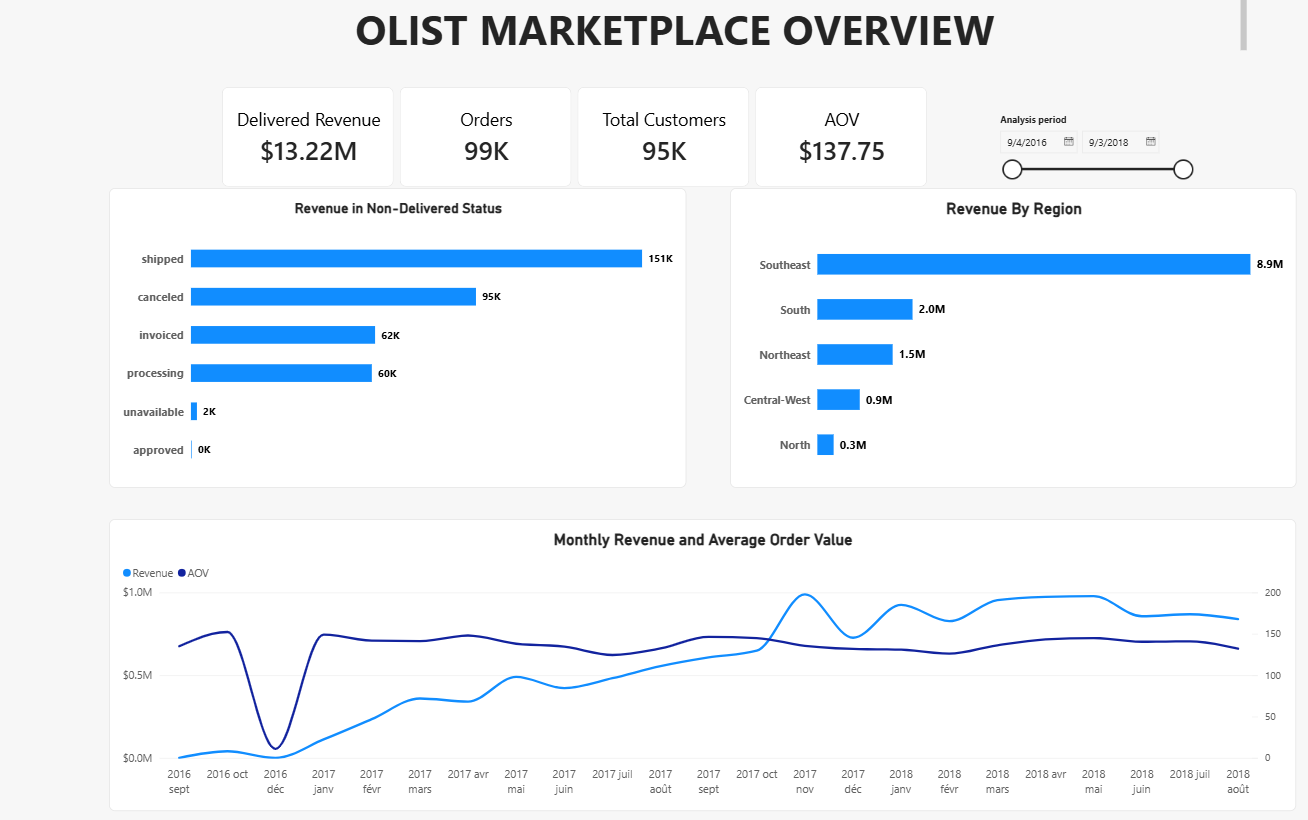

The page's visual inventory and layout, read from the dashboard file:
{"tool":"powerbi","page":{"name":"Overview","canvas":[1920,1080],"ordinal":0},"visuals":[{"type":"clusteredBarChart","title":"Revenue in Non-Delivered Status","fields":{"Category":["fct_orders.order_status"],"Y":["fct_orders.Executive - Total Revenue"]},"box":[333.3,243.3,746.7,388.3],"z":0},{"type":"cardVisual","fields":{"Data":["fct_orders.Executive -Delivered Revenue","fct_orders.Executive- Total Orders","fct_orders._Overview - Total Customers","fct_orders.Executive - AOV"]},"box":[526.3,112.7,867.4,129.6],"z":1000},{"type":"slicer","fields":{"Values":["fct_orders.full_date"]},"box":[1478.6,146.6,260.8,97.2],"z":2000},{"type":"lineChart","title":"Monthly Revenue and Average Order Value","fields":{"Category":["dim_date.Year Month"],"Y":["fct_orders.Executive -Delivered Revenue"],"Y2":["fct_orders.Executive - Delivered AOV"]},"box":[333.4,671.4,1535.7,378.1],"z":3000},{"type":"textbox","box":[333.4,0,1472.4,67.9],"z":4000},{"type":"clusteredBarChart","title":"Revenue By Region","fields":{"Category":["dim_customers.customer_region"],"Y":["fct_orders._Total Revenue"]},"box":[1136.7,243.3,733.3,388.3],"z":5000}]}

Visuals, with their boxes on the page's 1920x1080 design canvas (x1, y1, x2, y2). These are canvas units, not pixel positions in the 1308x820 screenshot, which may show the page scaled, cropped or inside an application window:
"Revenue in Non-Delivered Status" clusteredBarChart: l=333, t=243, r=1080, b=632
cardVisual - fct_orders.Executive -Delivered Revenue x fct_orders.Executive- Total Orders: l=526, t=113, r=1394, b=242
slicer - fct_orders.full_date: l=1479, t=147, r=1739, b=244
"Monthly Revenue and Average Order Value" lineChart: l=333, t=671, r=1869, b=1050
textbox: l=333, t=0, r=1806, b=68
"Revenue By Region" clusteredBarChart: l=1137, t=243, r=1870, b=632
